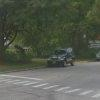Crosswalk: (4, 65, 100, 100)
